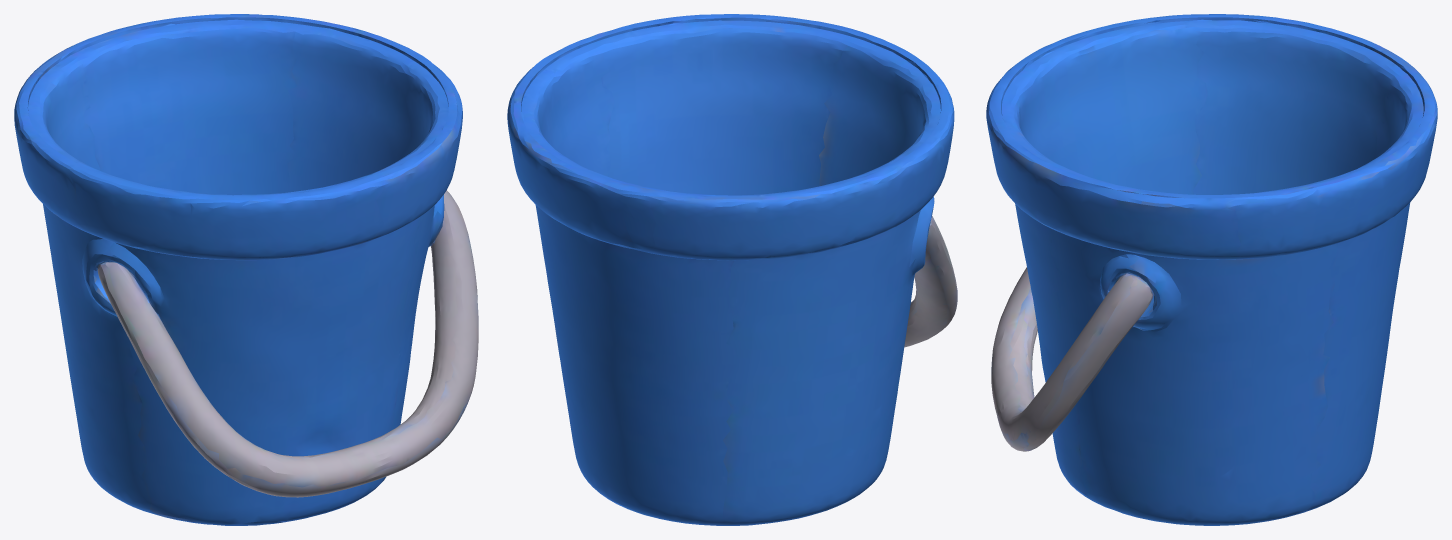
Rendered from bucket.glb.
3 renders of one model, left to right at view 1: azimuth 30°, elevation 25°; view 2: azimuth 150°, elevation 25°; view 3: azimuth 270°, elevation 25°, orthographic.
Visible parts, largest first — view 1: Mesh; view 2: Mesh; view 3: Mesh.
Part boxes in pixels (bbox=[...]): Mesh: bbox=[14, 14, 478, 525]; Mesh: bbox=[507, 14, 957, 525]; Mesh: bbox=[986, 14, 1437, 525].
Bounding box in the file's own units: 0.9954 × 0.88 × 1.
1 material, 1 textured.
